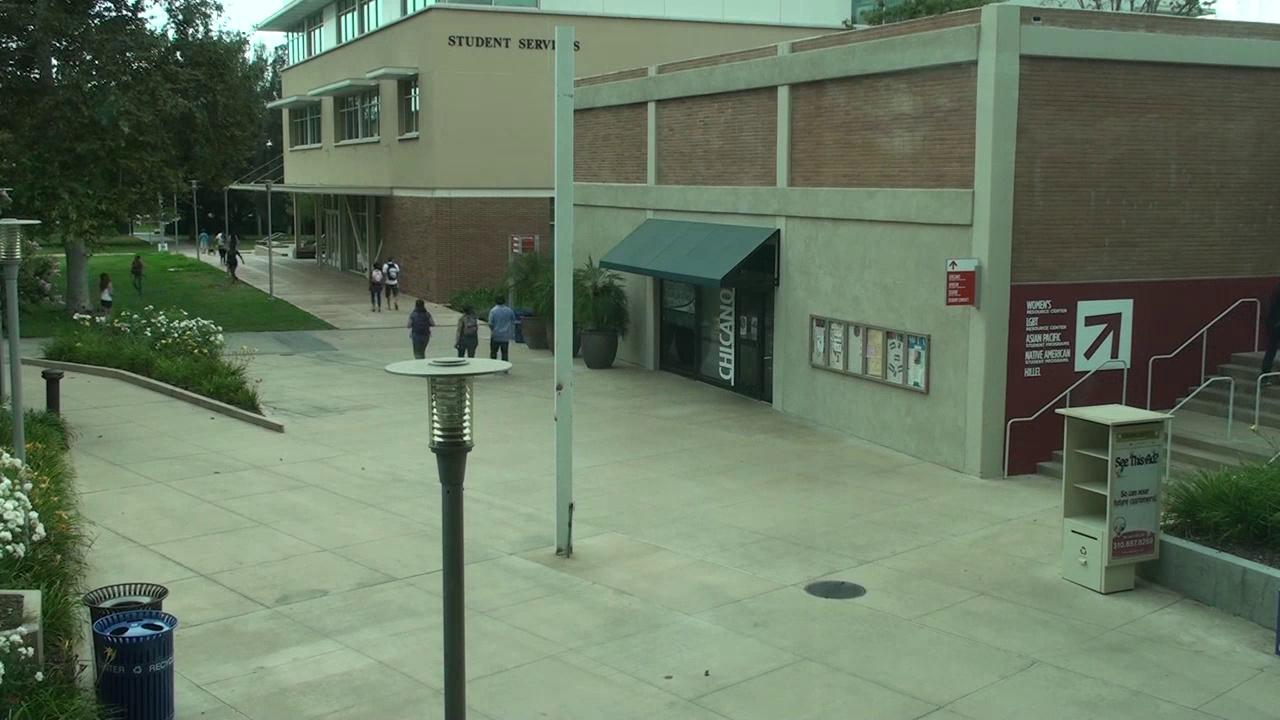person: (488, 297, 516, 359), (407, 300, 436, 358), (454, 306, 478, 356), (382, 257, 399, 309), (225, 235, 242, 283), (369, 266, 385, 311), (99, 272, 113, 314), (131, 255, 144, 295), (216, 232, 226, 265)
